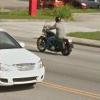Motorcycle: (33, 17, 93, 73)
